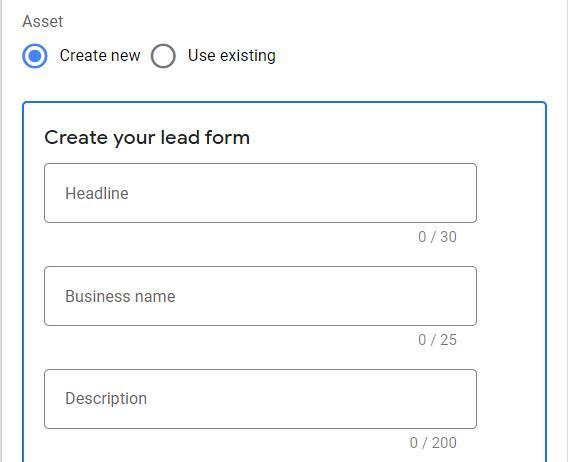input: (44, 265, 479, 328), (44, 164, 479, 225), (45, 369, 479, 430)
label: (46, 127, 251, 153), (188, 44, 283, 68), (60, 44, 141, 68), (17, 14, 69, 32)
radio: (150, 42, 180, 71), (22, 44, 51, 71)
